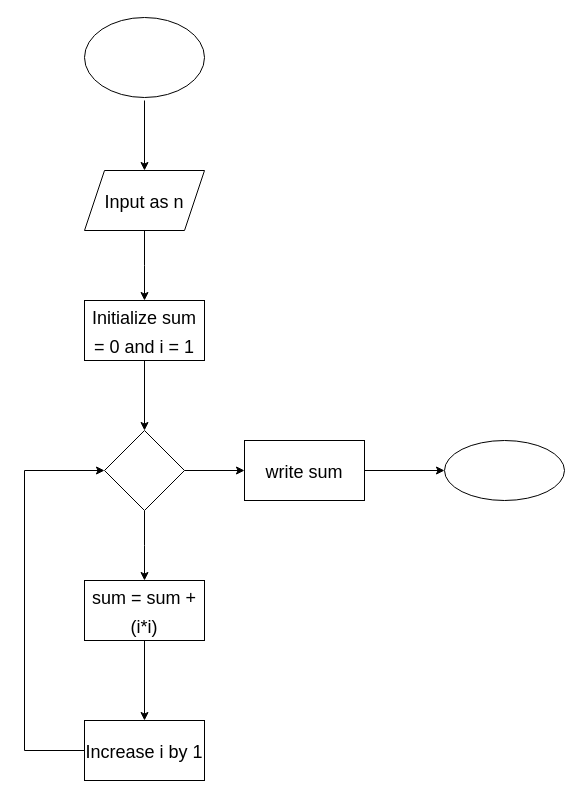
Some shapes in this 582 by 798 pixel diagram are drawn without their labels. Each missing label, with the centre of its shape:
End: point 504,470
is i<= n: point 144,470
Start: point 144,57
